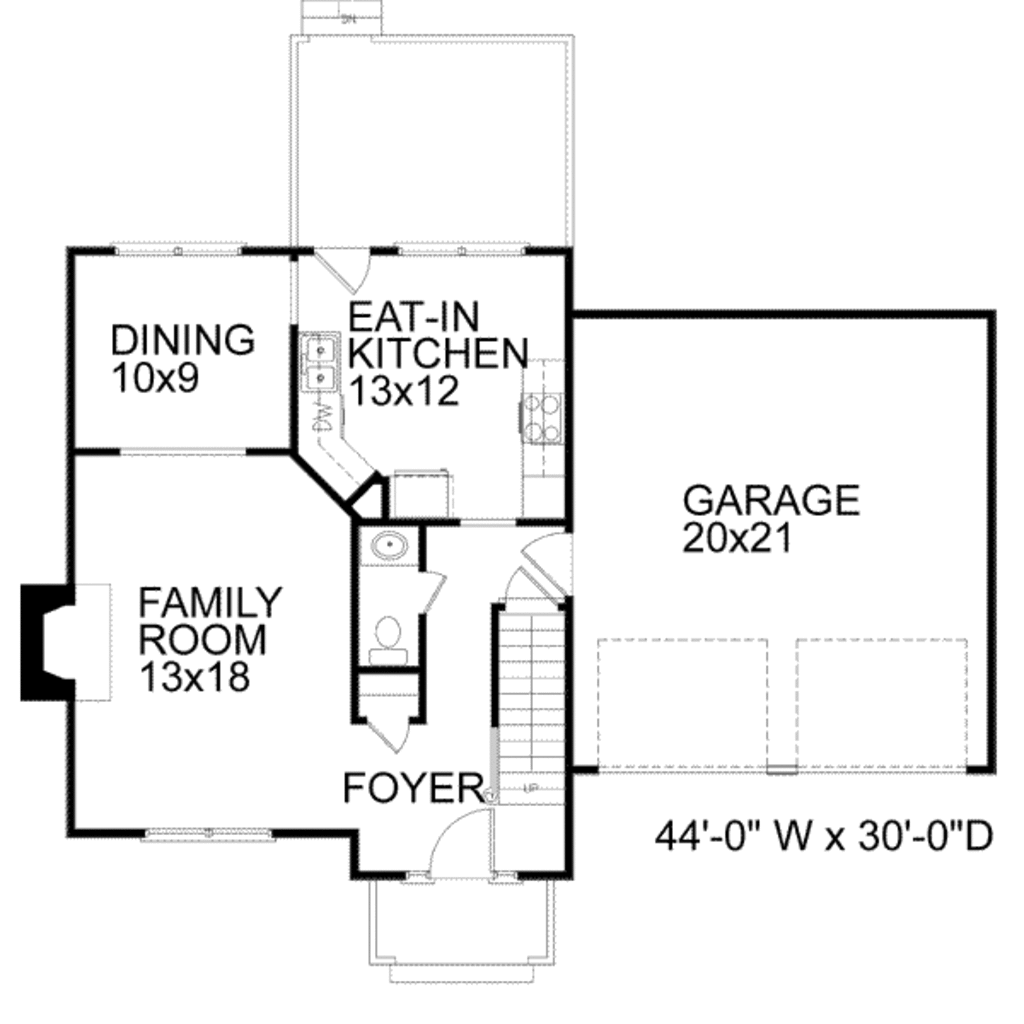door: (423, 801, 493, 883), (517, 525, 572, 592), (308, 237, 375, 291), (367, 711, 424, 754)
large_sink: (355, 611, 410, 664)
small_sink: (350, 528, 427, 571)
stairs: (486, 603, 564, 808)
windows: (130, 816, 277, 848), (111, 235, 256, 261), (387, 236, 526, 261)
